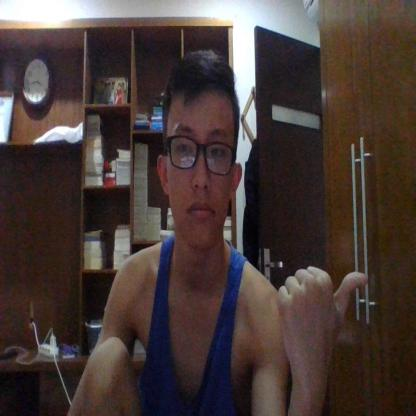left: (276, 262, 370, 367)
